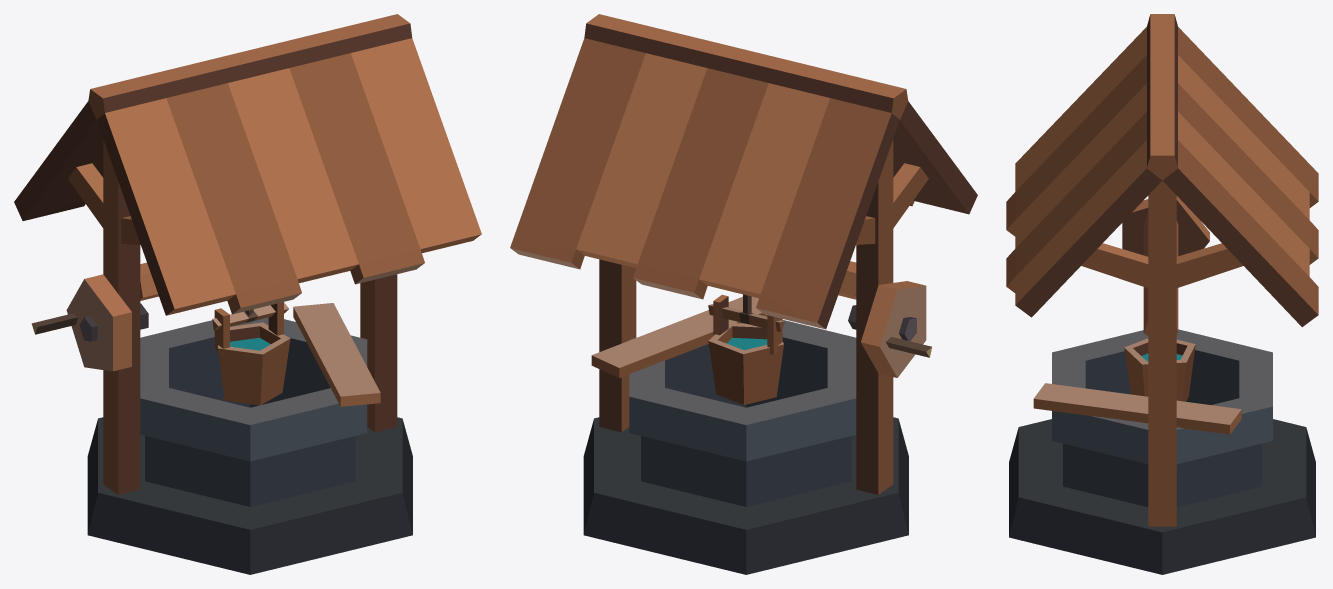
Rendered from town_well.glb.
3 renders of one model, left to right at view 1: azimuth 30°, elevation 25°; view 2: azimuth 150°, elevation 25°; view 3: azimuth 270°, elevation 25°, orthographic. The views are drawn at different scales.
Visible parts, largest first — view 1: TB_Bd_Well; view 2: TB_Bd_Well; view 3: TB_Bd_Well.
Part boxes in pixels (x1=…): TB_Bd_Well: x1=14, y1=14, x2=481, y2=574; TB_Bd_Well: x1=510, y1=14, x2=977, y2=574; TB_Bd_Well: x1=1006, y1=14, x2=1318, y2=574.
Size of the model in its own units: 2.59 by 3 by 2.04.
1 material, 1 textured.
